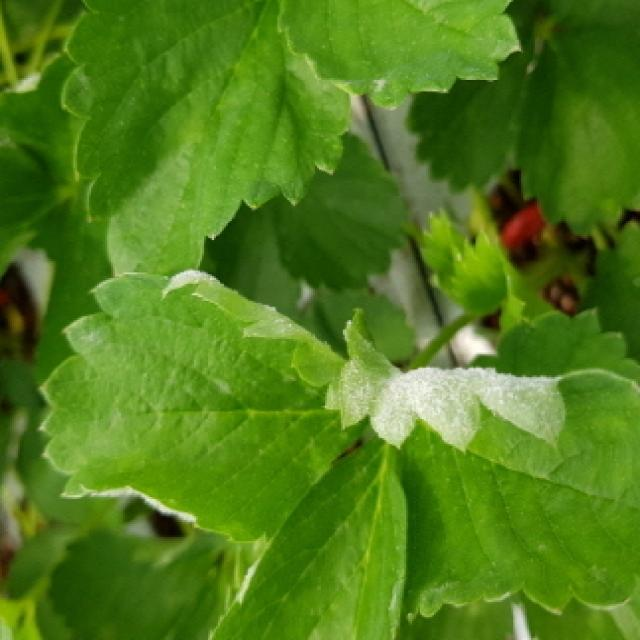Powdery Mildew Leaf: (339, 304, 640, 623), (33, 268, 365, 543), (207, 441, 409, 640), (521, 581, 640, 640)
